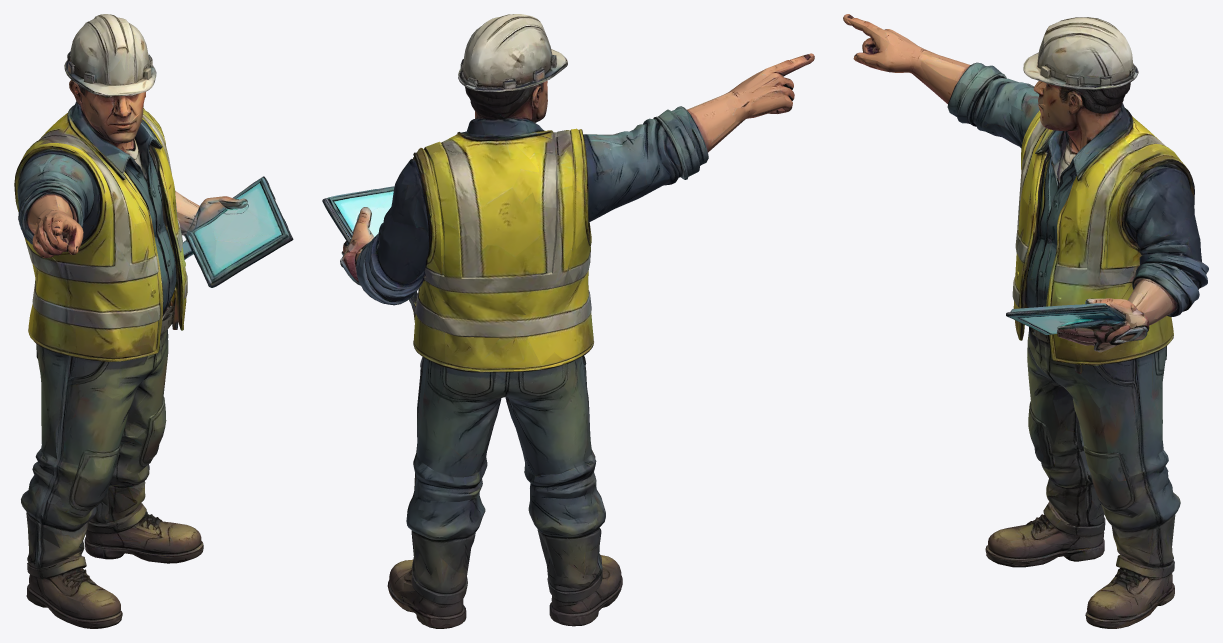
File: worker_3.glb
3 renders of one model, left to right at view 1: azimuth 30°, elevation 25°; view 2: azimuth 150°, elevation 25°; view 3: azimuth 270°, elevation 25°, orthographic. The views are drawn at different scales.
Size of the model in its own units: 1.21 by 1.9 by 1.12.
1 material, 1 textured.
